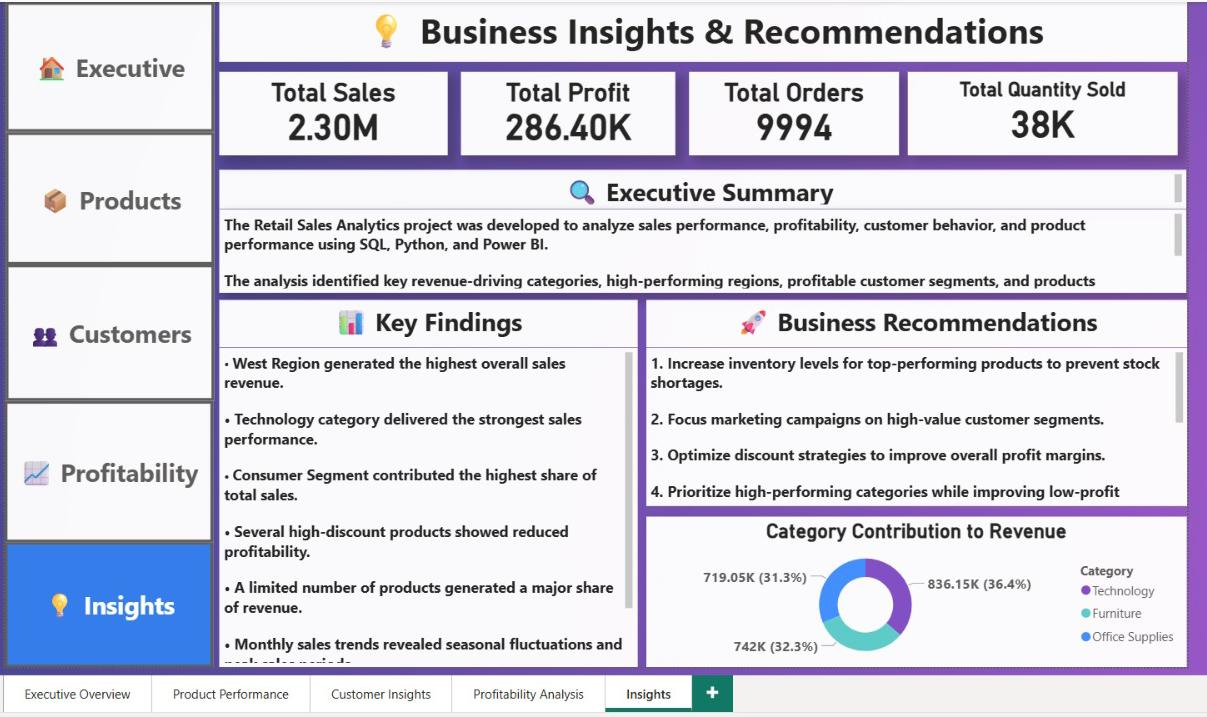

The dashboard page shown, as its layout file describes it:
{"tool":"powerbi","page":{"name":"Insights","canvas":[1280,720],"ordinal":4},"visuals":[{"type":"textbox","box":[232.3,0,1048,64.8],"z":0},{"type":"actionButton","box":[0,584.3,225.6,136.3],"z":0,"group":"g1"},{"type":"actionButton","box":[1.3,0,225.6,140.5],"z":1000,"group":"g1"},{"type":"actionButton","box":[1.3,140.5,225.6,143.3],"z":2000,"group":"g1"},{"type":"textbox","box":[232.3,181,1046.7,42.8],"z":2000},{"type":"textbox","box":[232.3,223.8,1046.7,90.5],"z":3000},{"type":"actionButton","box":[1.3,283.8,225.6,147.5],"z":3000,"group":"g1"},{"type":"card","title":"Total Sales","fields":{"Values":["Sum(Sample_ Superstore.Sales)"]},"box":[232.3,75.8,247,90.5],"z":4000},{"type":"actionButton","box":[0,431.3,225.6,153],"z":4000,"group":"g1"},{"type":"card","title":"Total Profit","fields":{"Values":["Sum(Sample_ Superstore.Profit)"]},"box":[494,75.8,232.3,90.5],"z":5000},{"type":"card","title":"Total Orders","fields":{"Values":["CountNonNull(Sample_ Superstore.Order ID)"]},"box":[741,75.8,227.4,90.5],"z":6000},{"type":"card","title":"Total Quantity Sold","fields":{"Values":["Sum(Sample_ Superstore.Quantity)"]},"box":[977,75.8,292.3,90.5],"z":7000},{"type":"textbox","box":[232.3,322.8,452.4,51.4],"z":8000},{"type":"group","id":"g1","title":"Group 1","box":[0,0,226.9,720.7],"z":8001,"group":"g2"},{"type":"textbox","box":[232.3,374.2,452.4,346.1],"z":9000},{"type":"textbox","box":[694.6,322.8,585.7,51.4],"z":10000},{"type":"textbox","box":[694.6,374.2,585.7,171.2],"z":11000},{"type":"donutChart","title":"Category Contribution to Revenue","fields":{"Category":["Sample_ Superstore.Category"],"Y":["Sum(Sample_ Superstore.Sales)"]},"box":[694.6,556.4,584.5,163.9],"z":12000},{"type":"group","id":"g2","title":"Navigation Buttons","box":[0,0,226.2,720.2],"z":13000}]}

Visuals, with their boxes on the page's 1280x720 design canvas (x1, y1, x2, y2). These are canvas units, not pixel positions in the 1207x717 screenshot, which may show the page scaled, cropped or inside an application window:
textbox: 232,0,1280,65
actionButton: 0,584,226,721
actionButton: 1,0,227,140
actionButton: 1,140,227,284
textbox: 232,181,1279,224
textbox: 232,224,1279,314
actionButton: 1,284,227,431
"Total Sales" card: 232,76,479,166
actionButton: 0,431,226,584
"Total Profit" card: 494,76,726,166
"Total Orders" card: 741,76,968,166
"Total Quantity Sold" card: 977,76,1269,166
textbox: 232,323,685,374
"Group 1" group: 0,0,227,721
textbox: 232,374,685,720
textbox: 695,323,1280,374
textbox: 695,374,1280,545
"Category Contribution to Revenue" donutChart: 695,556,1279,720
"Navigation Buttons" group: 0,0,226,720
